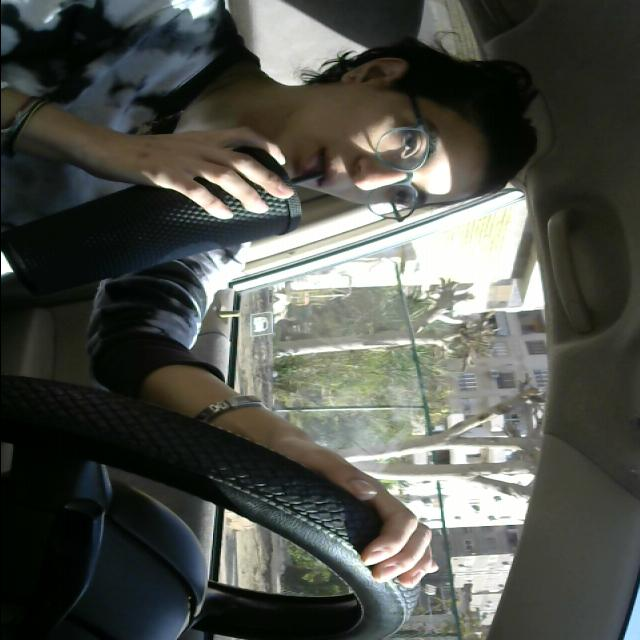drinking: (0, 134, 330, 310)
